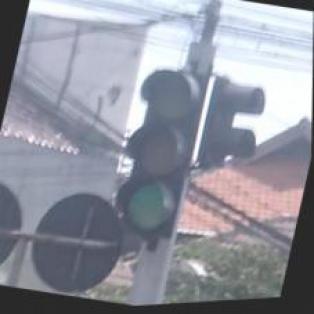Semaforo Verde: (107, 64, 210, 248)
